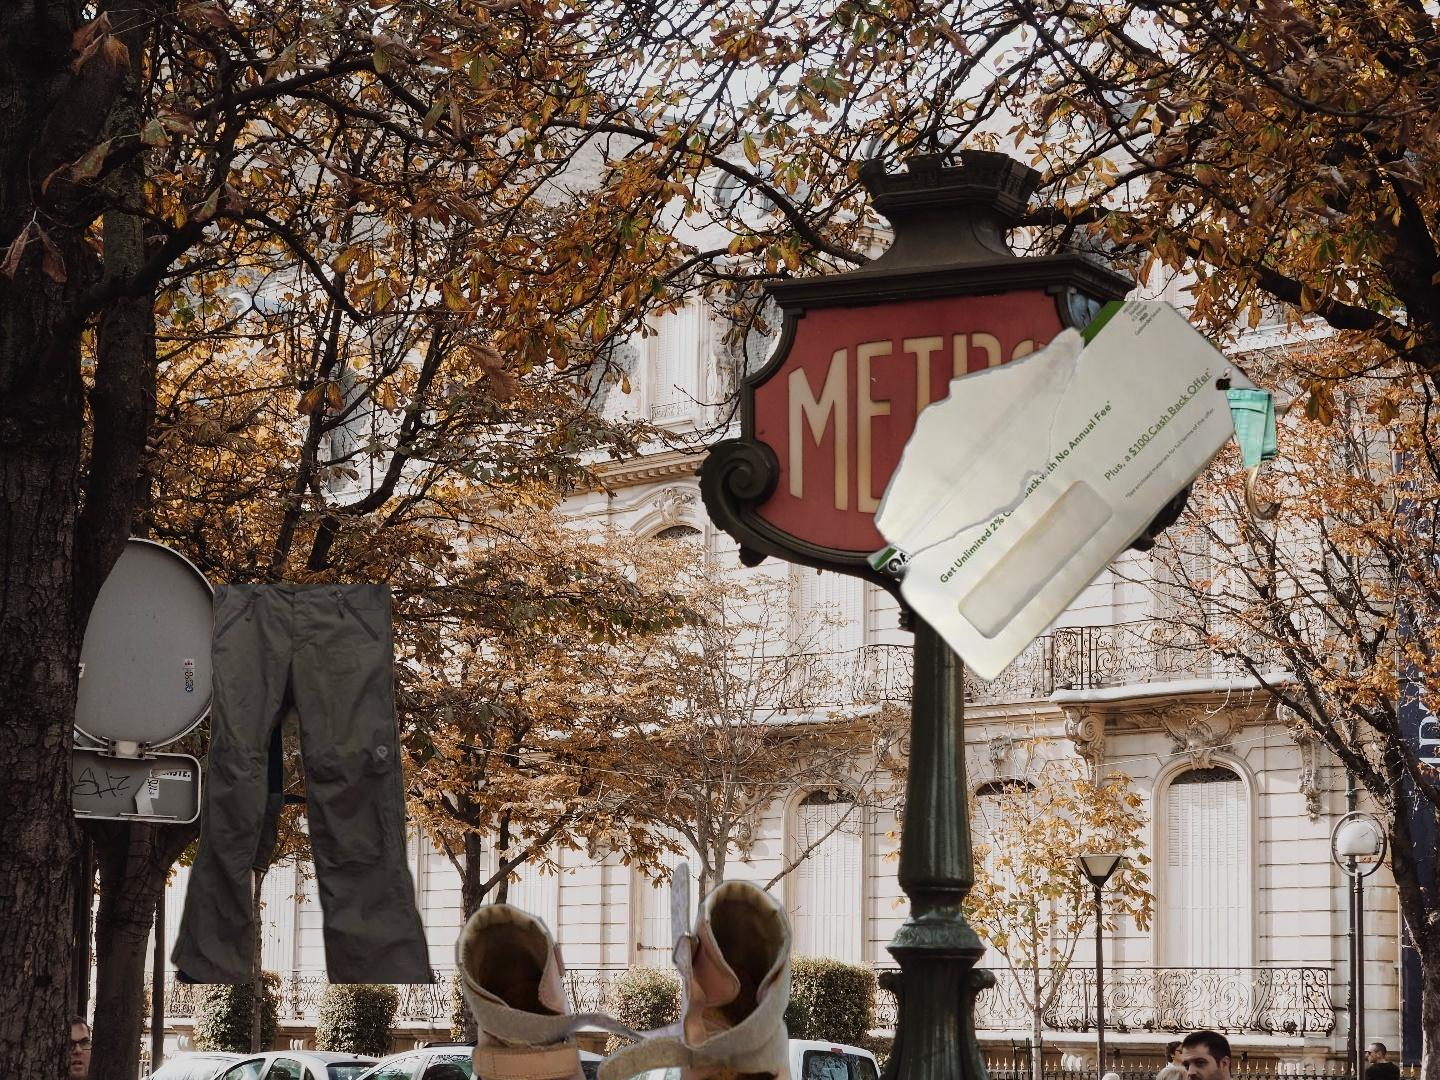clothes: (168, 584, 478, 984)
paper: (816, 301, 1271, 685)
shoes: (452, 858, 801, 1080)
trashbox-cardboard: (1016, 328, 1302, 523)
